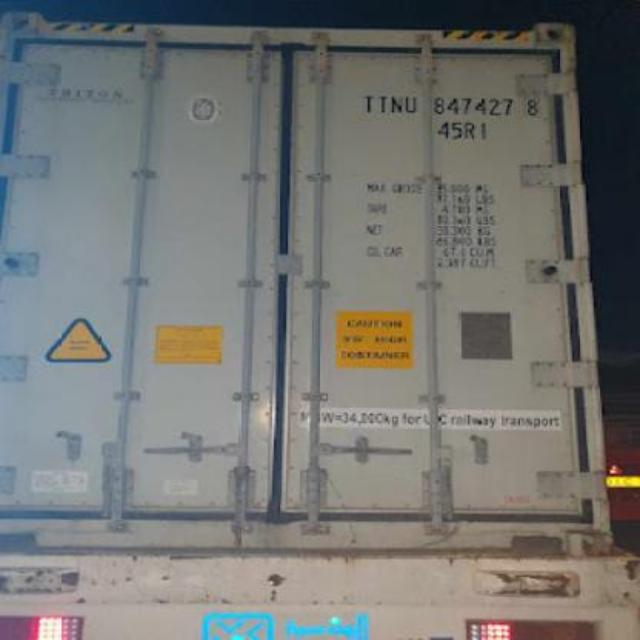2: (486, 90, 499, 120)
4: (472, 92, 488, 118), (444, 93, 458, 117)
7: (498, 90, 516, 120), (458, 93, 472, 117)
8: (522, 92, 540, 118), (432, 94, 444, 116)
N: (388, 85, 404, 118)
T: (360, 86, 376, 118), (376, 86, 388, 118)
U: (404, 88, 418, 122)
